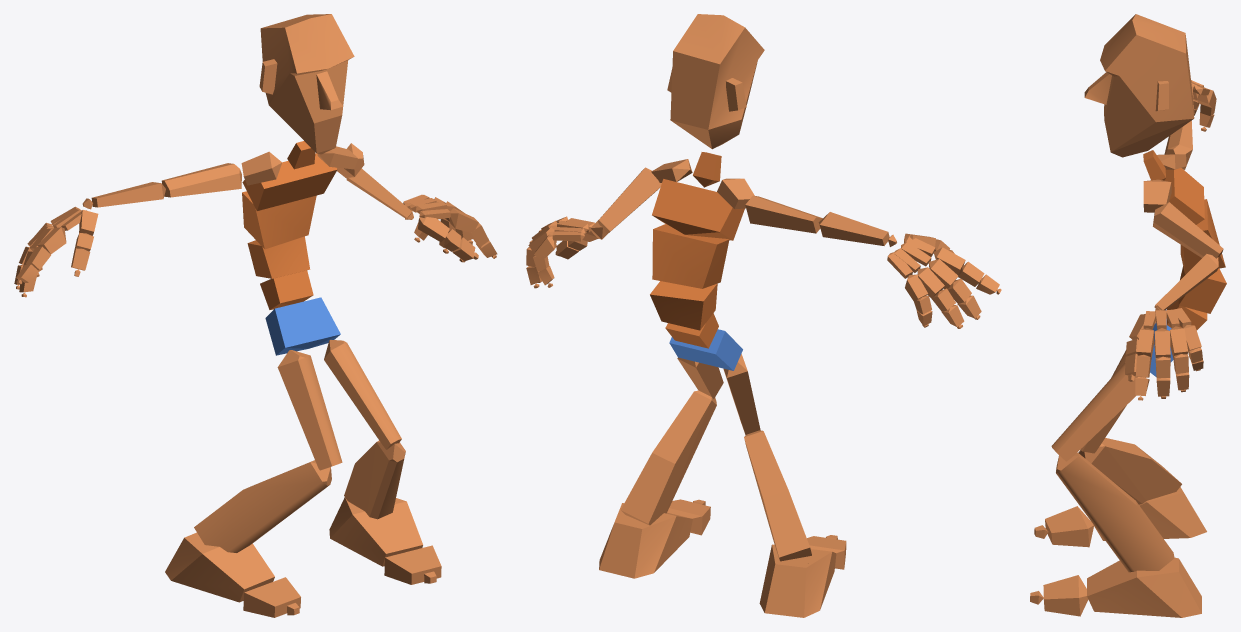
The picture shows the model from 3 angles, left to right: view 1: azimuth 30°, elevation 25°; view 2: azimuth 150°, elevation 25°; view 3: azimuth 270°, elevation 25°; orthographic projection.
Parts seen in each view (by area): view 1: BOPED_Head, BOPED_R_leg, BOPED_R_foot, BOPED_R_foot01, BOPED_R_legup, BOPED_L_leg, Bone01, BOPED_L_legup, Bone04, Bone05, Bone03, BOPED_R_arm_upper (+6 smaller); view 2: BOPED_Head, BOPED_L_leg, BOPED_R_foot01, BOPED_R_foot, BOPED_R_leg, Bone04, Bone05, Bone03, BOPED_R_arm_upper, Bone01, BOPED_L_arm_upper, BOPED_R_arm_fore (+8 smaller); view 3: BOPED_Head, BOPED_L_leg, BOPED_R_foot01, BOPED_R_leg, BOPED_L_legup, BOPED_R_foot, BOPED_L_arm_upper, BOPED_R_foot_toe01, Bone05, BOPED_R_foot_toe04, Bone03, BOPED_L_arm_fore (+14 smaller).
Boxes of the visible parts, x1,y1,x2,y2 form: BOPED_Head: [259, 14, 354, 154]; BOPED_R_leg: [194, 460, 331, 552]; BOPED_R_foot: [165, 532, 274, 602]; BOPED_R_foot01: [329, 497, 422, 566]; BOPED_R_legup: [277, 350, 342, 470]; BOPED_L_leg: [344, 440, 405, 519]; Bone01: [265, 297, 340, 355]; BOPED_L_legup: [324, 340, 401, 449]; Bone04: [242, 191, 316, 249]; Bone05: [242, 153, 337, 210]; Bone03: [247, 236, 310, 278]; BOPED_R_arm_upper: [161, 163, 241, 197]; BOPED_Head: [667, 14, 764, 149]; BOPED_L_leg: [621, 390, 716, 525]; BOPED_R_foot01: [599, 503, 692, 578]; BOPED_R_foot: [759, 544, 836, 617]; BOPED_R_leg: [744, 430, 811, 561]; Bone04: [652, 224, 729, 288]; Bone05: [652, 179, 744, 240]; Bone03: [650, 281, 717, 330]; BOPED_R_arm_upper: [745, 195, 822, 233]; Bone01: [669, 329, 742, 370]; BOPED_L_arm_upper: [597, 167, 661, 234]; BOPED_R_arm_fore: [818, 212, 889, 245]; BOPED_Head: [1084, 14, 1194, 157]; BOPED_L_leg: [1056, 452, 1174, 572]; BOPED_R_foot01: [1087, 557, 1201, 617]; BOPED_R_leg: [1078, 438, 1181, 504]; BOPED_L_legup: [1051, 362, 1145, 461]; BOPED_R_foot: [1094, 487, 1206, 540]; BOPED_L_arm_upper: [1153, 202, 1223, 258]; BOPED_R_foot_toe01: [1045, 506, 1094, 547]; Bone05: [1164, 168, 1204, 224]; BOPED_R_foot_toe04: [1043, 575, 1088, 616]; Bone03: [1178, 266, 1226, 313]; BOPED_L_arm_fore: [1154, 254, 1218, 310].
Bounding box in the file's own units: 157 × 174 × 56.5.
